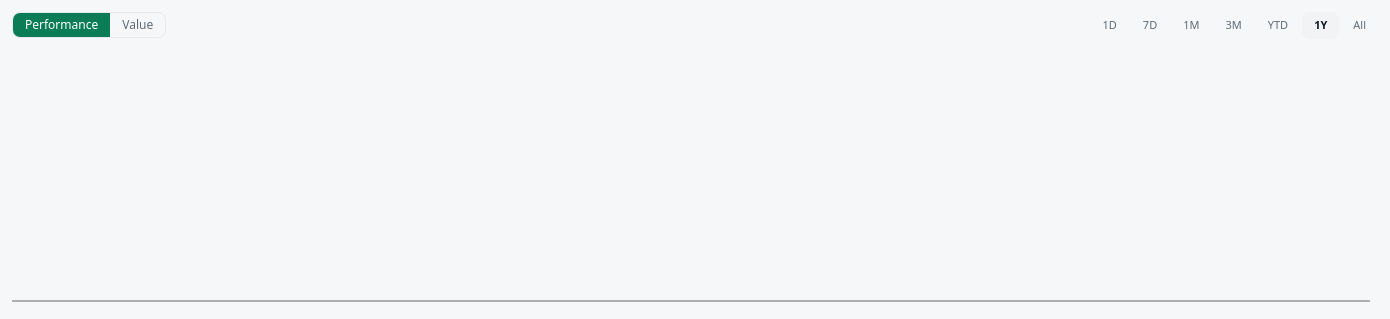
NetWorthHistoryChart › disables the Performance mode toggle for intraday ranges
Click the radio button labelled "1D": coordinates (1110, 25) [1090,12,1129,39]
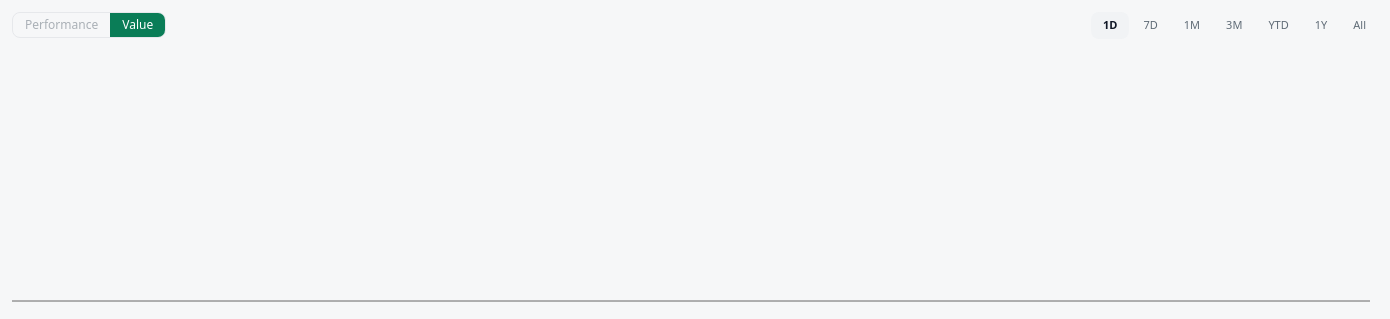
Expected: the radio button labelled "Performance" is disabled, [13,13,110,37]
